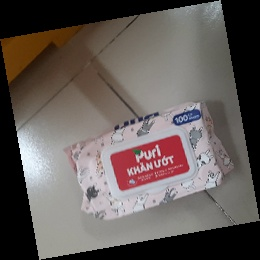Puri hong: (61, 100, 236, 222)
